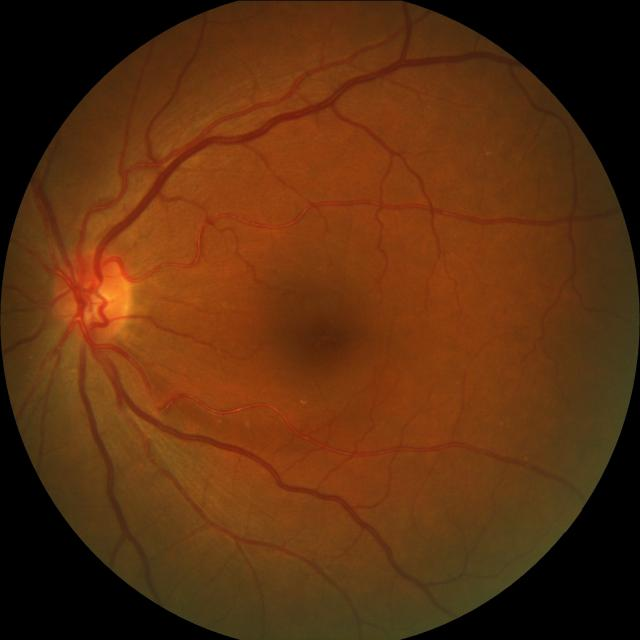OC: (66, 269, 114, 327)
OD: (48, 244, 133, 342)
